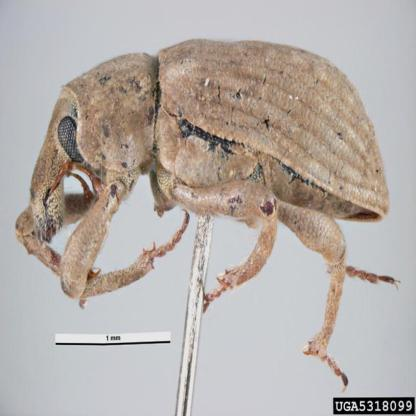rice-bug: (13, 36, 393, 312)
